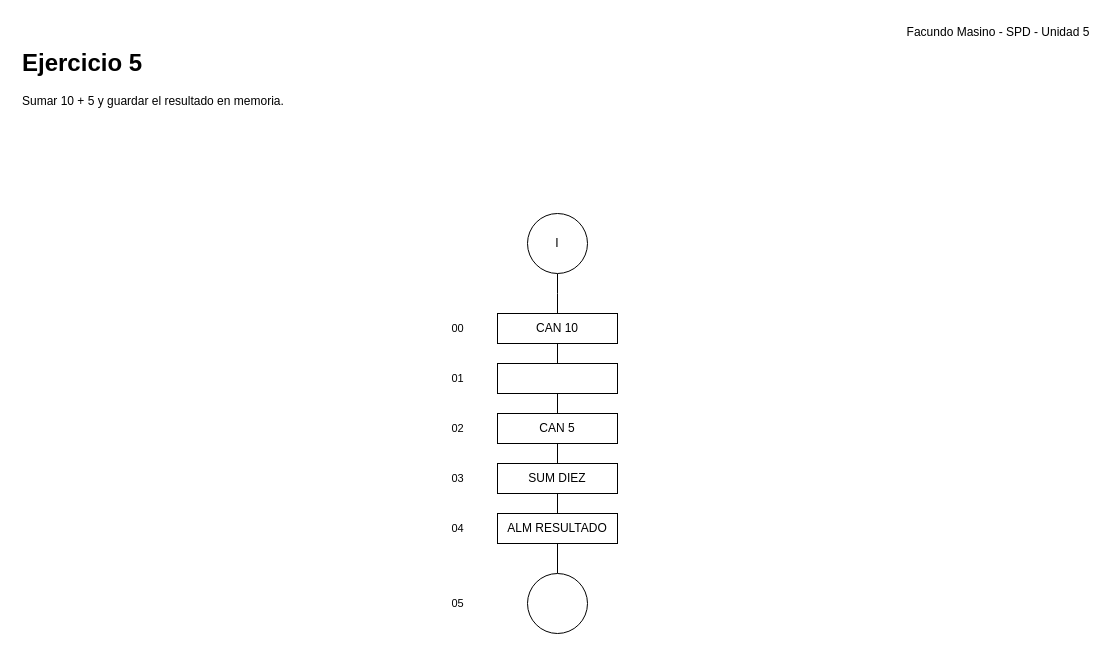
Image size: 1120x651. Some labels were removed from this diagram. The centre of each missing label's shape, as x and y in pixels:
ALM DIEZ: [557,378]
PAR: [557,603]
